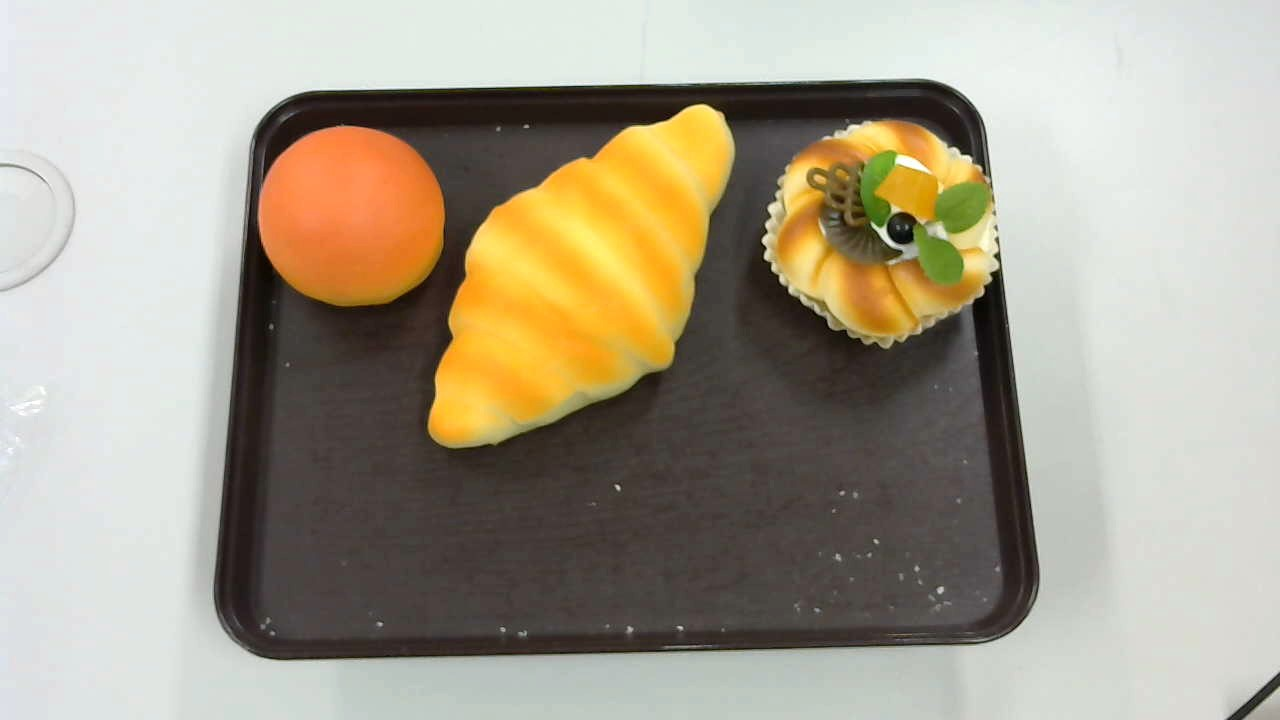bun: (257, 124, 445, 306)
croissant: (427, 102, 736, 449)
fruit tart: (762, 119, 998, 348)
